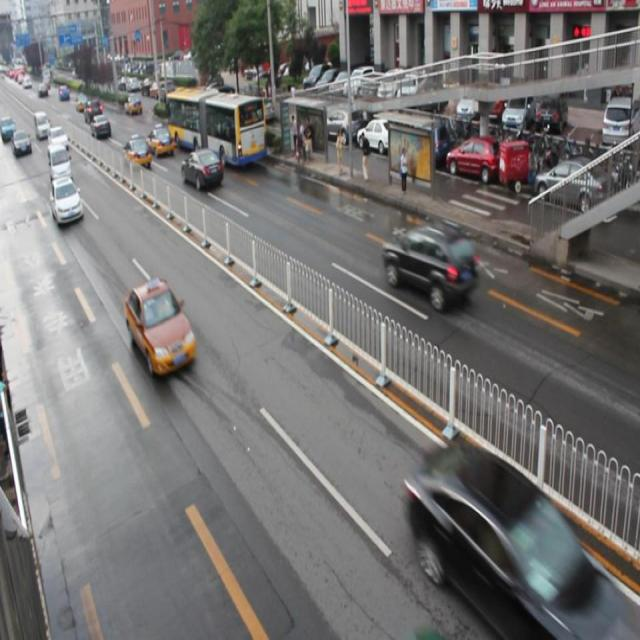car: (404, 441, 612, 640), (381, 220, 477, 309), (125, 276, 195, 372), (179, 149, 222, 190), (50, 176, 83, 228), (122, 134, 151, 168), (147, 122, 171, 153)
truck: (47, 143, 72, 181)
van: (164, 86, 264, 170)
